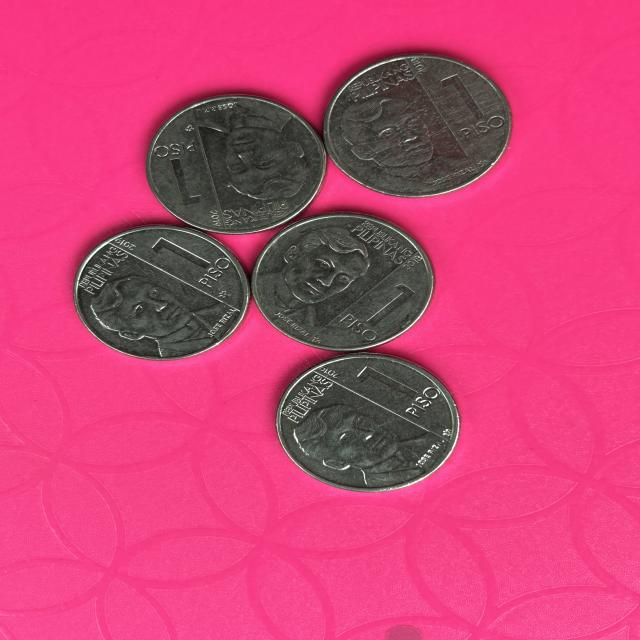1_New_Front: (431, 74, 509, 157), (138, 230, 228, 291), (351, 366, 442, 422), (337, 278, 413, 344), (154, 138, 213, 215)
